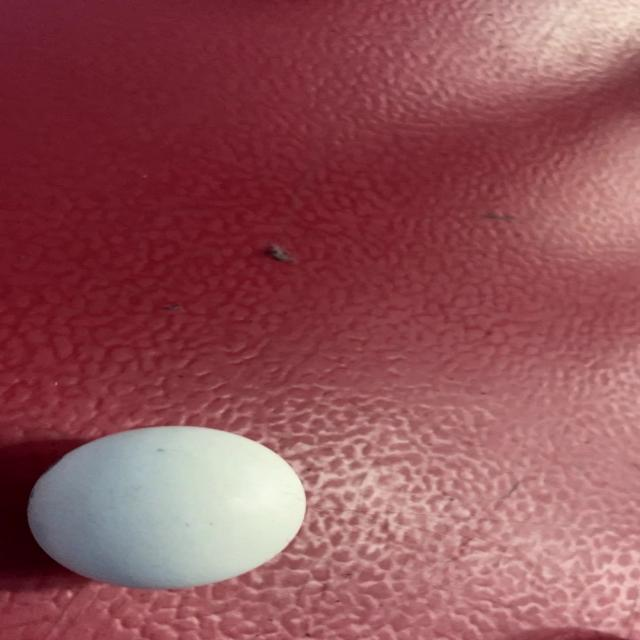ping-pong-ball: (14, 418, 320, 595)
